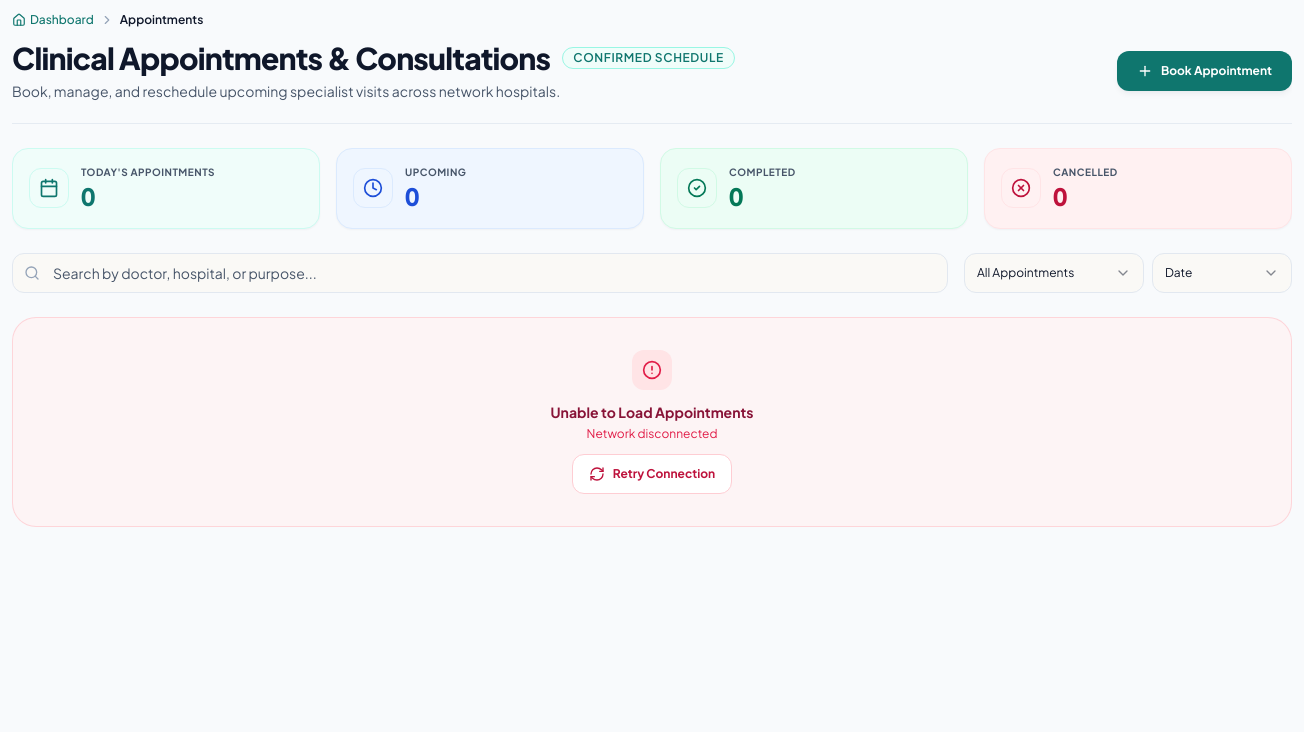
Test: PHASE E — API Reliability, Patient Workflows & Production Hardening Suite › 2. Appointments Workflow: Failure Recovery & Submission Idempotency › 2.2 Clicking Retry Connection re-initiates fetch and renders appointments upon success
This screenshot has width=1304, height=732.
Check: the element with test id "appointments-error-state" is shown, box [12,317,1292,527]
Click the button "Retry Connection" at (652, 474), box [572,454,732,494]
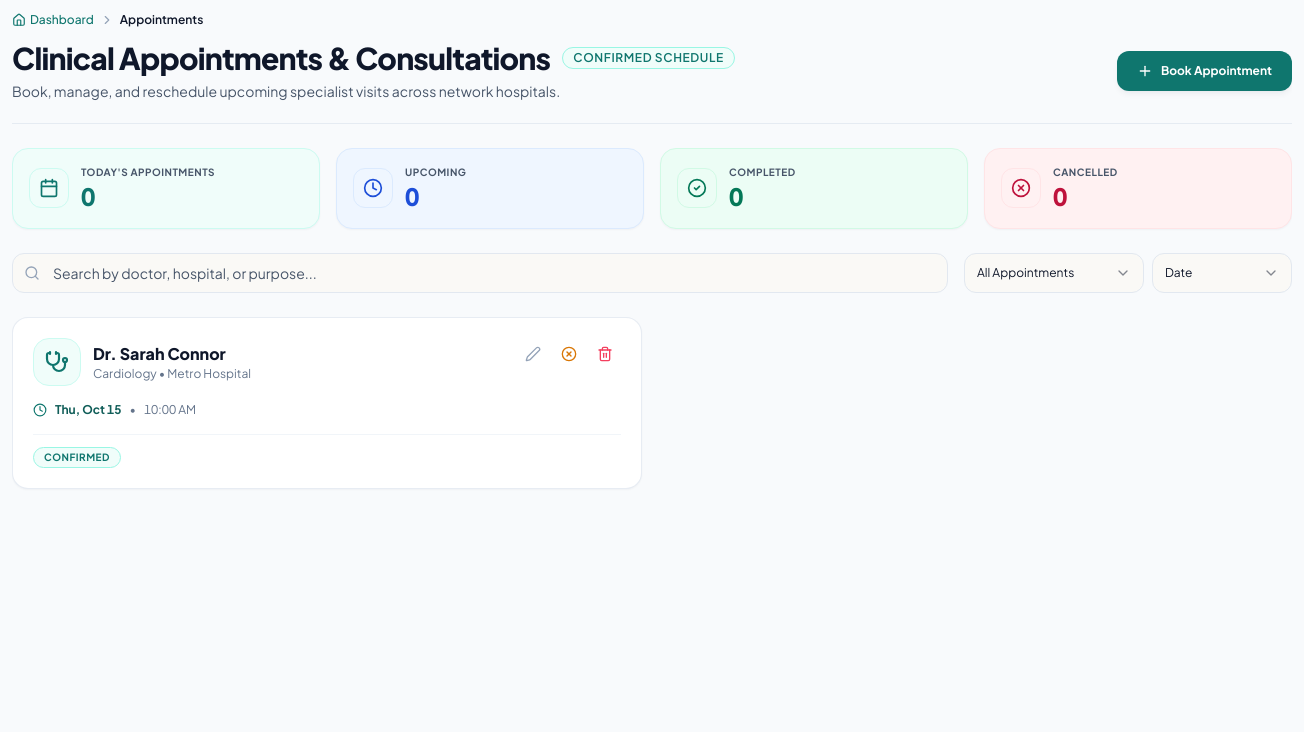
Check: the heading "Dr. Sarah Connor" is shown, box [93,343,226,364]
Check: the element with test id "appointments-error-state" is gone
